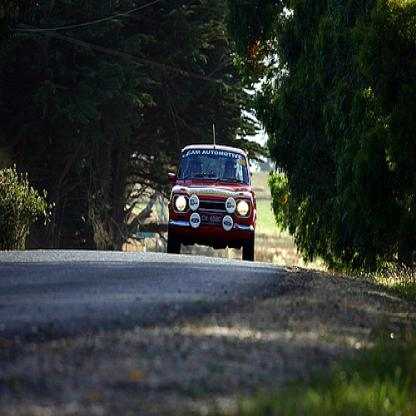car: (166, 142, 256, 266)
